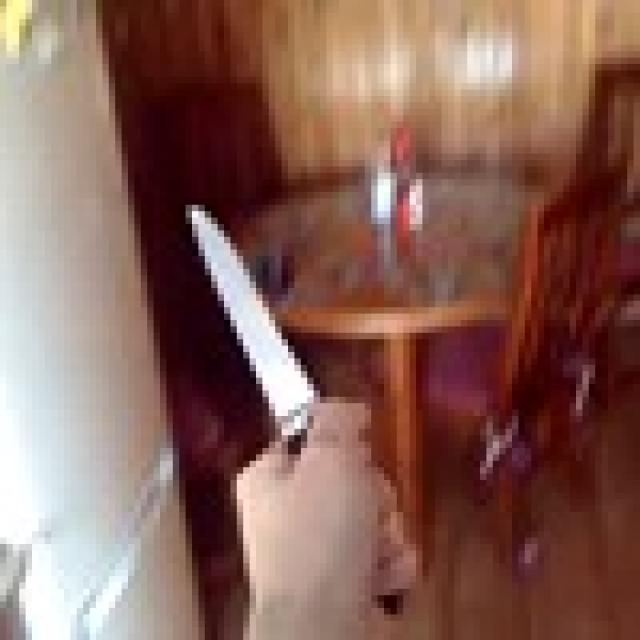Knife: (172, 192, 410, 602)
